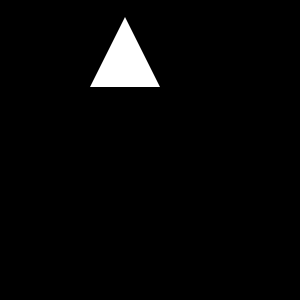triangle: (90, 17, 160, 87)
